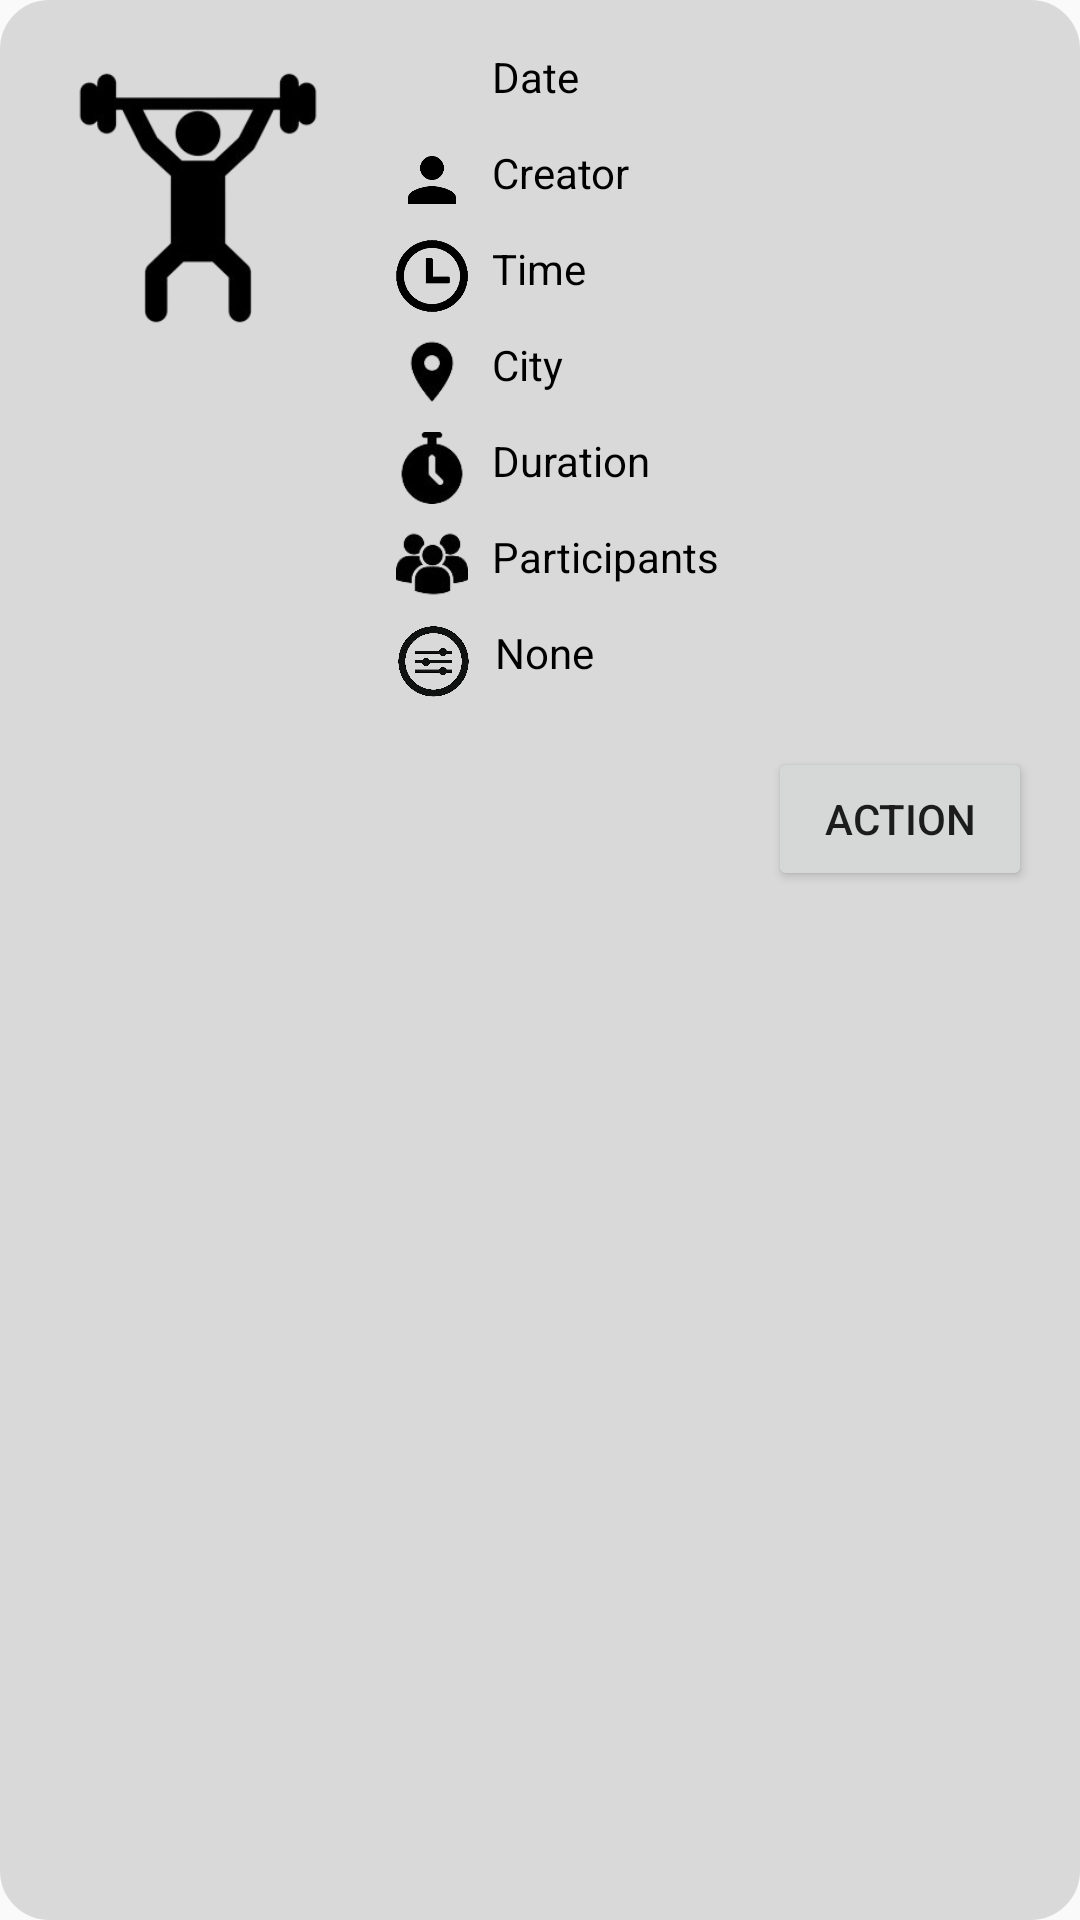

Icons on this 1080 × 1920 Android screen, each with its box as bbox=[x1, y1, x2, y2]:
crowd: bbox=[396, 533, 468, 595]
filter: bbox=[398, 626, 469, 697]
lifting: bbox=[79, 73, 317, 323]
location: bbox=[410, 341, 454, 402]
